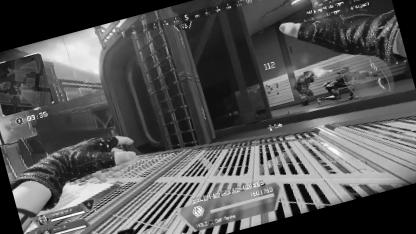Target: (320, 58, 378, 107), (289, 68, 318, 107)
